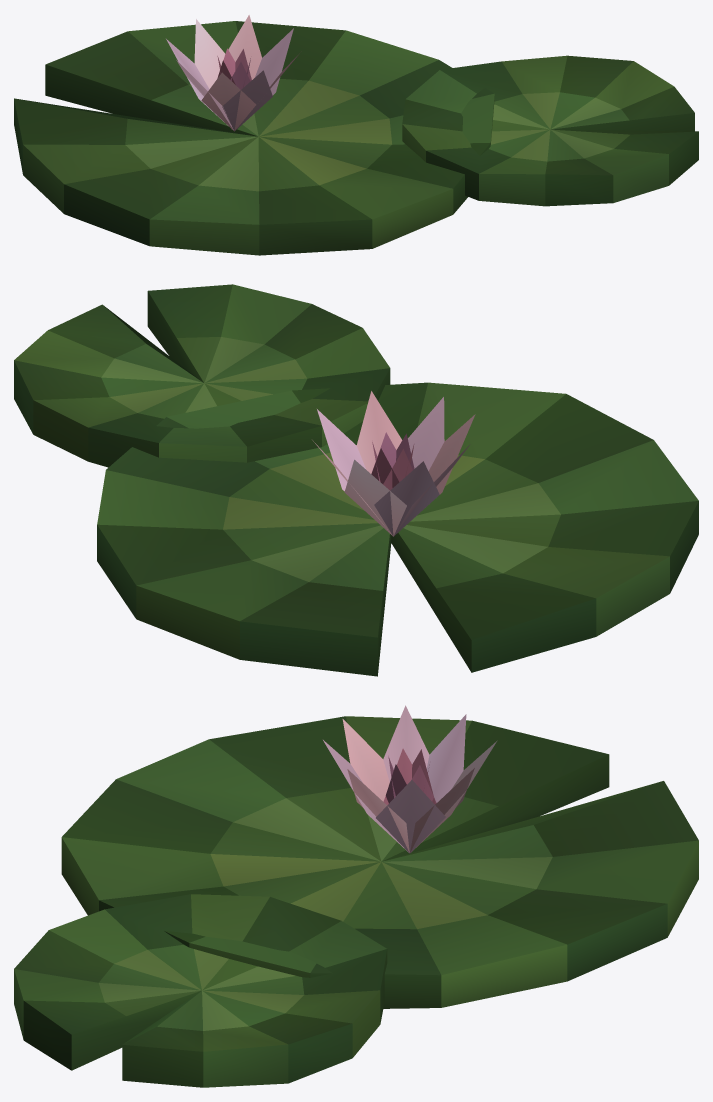
Rendered from lily-pad-2.glb.
3 renders of one model, top to bottom at view 1: azimuth 30°, elevation 25°; view 2: azimuth 150°, elevation 25°; view 3: azimuth 270°, elevation 25°, orthographic. The views are drawn at different scales.
Parts seen in each view (by area): view 1: lily-pad-2; view 2: lily-pad-2; view 3: lily-pad-2.
Boxes of the visible parts, x1=… form: lily-pad-2: x1=14, y1=15, x2=698, y2=255; lily-pad-2: x1=14, y1=284, x2=698, y2=676; lily-pad-2: x1=14, y1=705, x2=698, y2=1087.
Size of the model in its own units: 0.8537 by 0.1541 by 0.7253.
